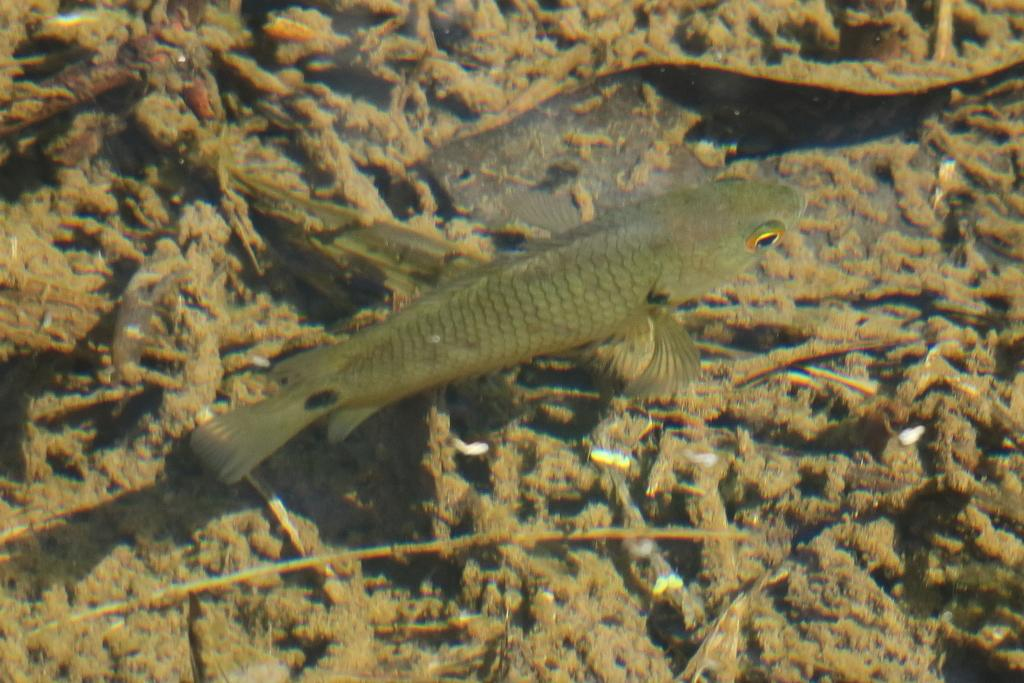Climbing Perch: (189, 168, 812, 485)
